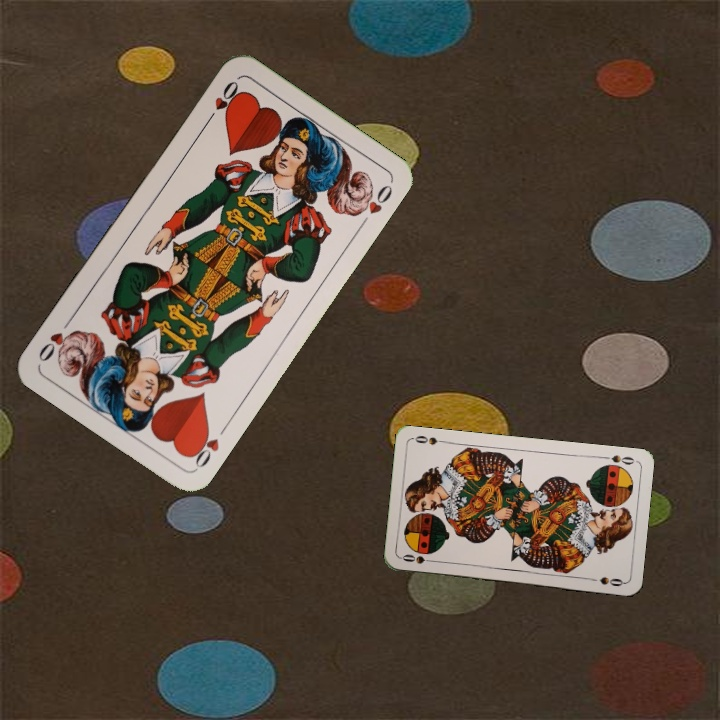HO: (185, 420, 231, 471), (201, 76, 242, 127)
SO: (398, 550, 439, 566), (598, 451, 637, 467)
